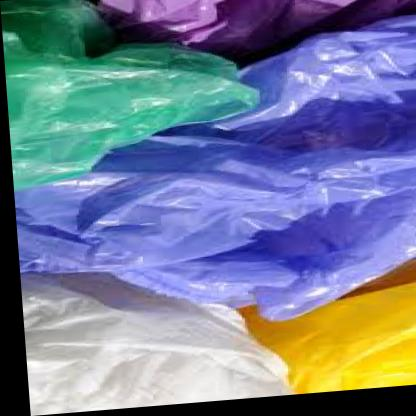Plastic: (246, 18, 416, 312), (18, 150, 252, 314), (0, 0, 233, 152), (19, 305, 260, 411), (273, 292, 416, 400), (238, 0, 416, 28)
